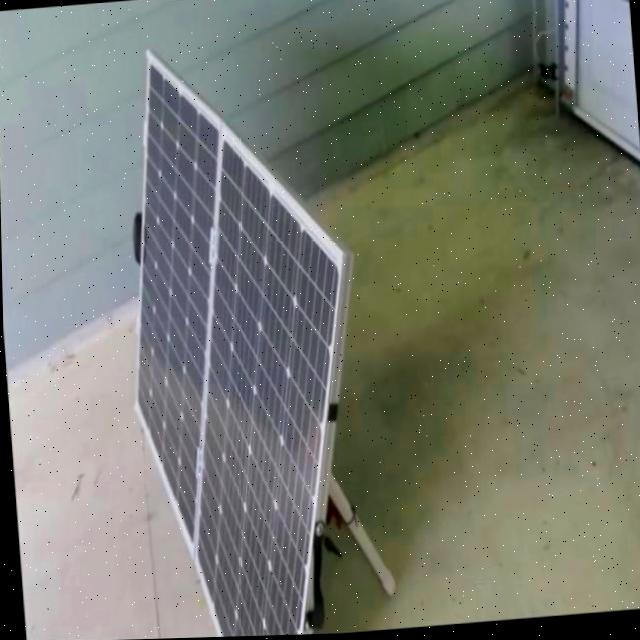Normal Solar Panel: (108, 38, 374, 640)
